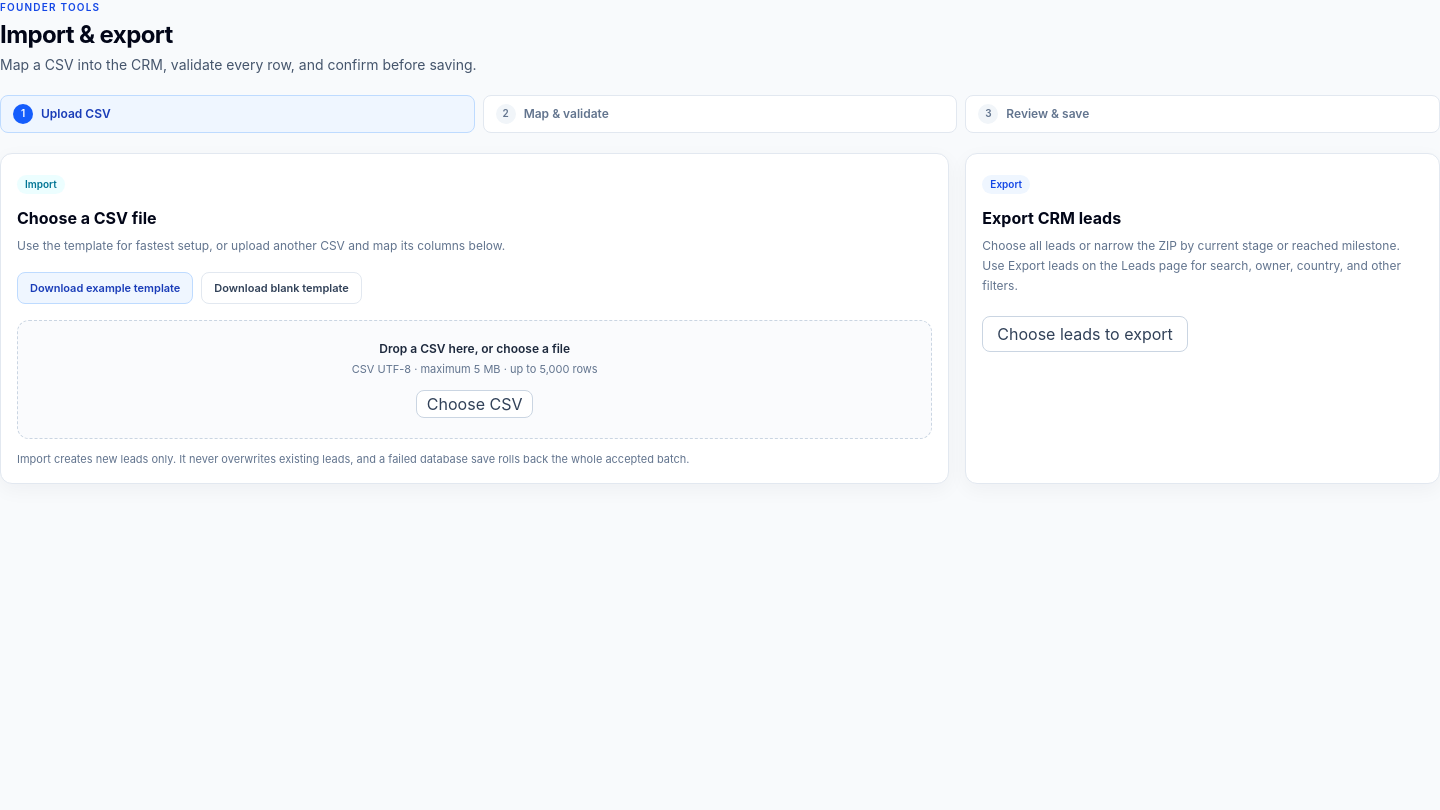
Bulk Import rich export › does not download when there are no leads
Click the button "Choose leads to export": (1085, 334) 982,316 -> 1188,352
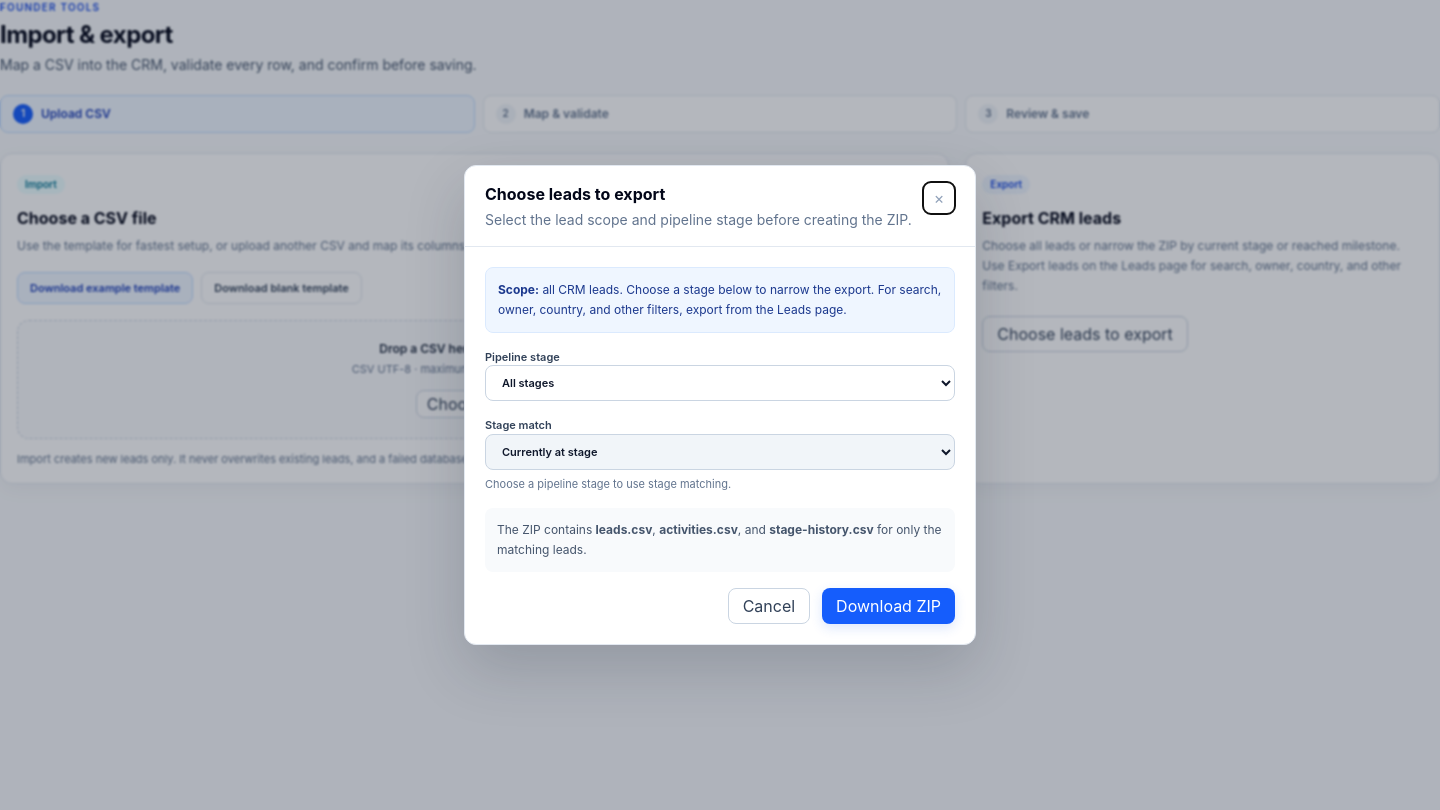
Click the button "Download ZIP": (889, 606) 822,588 -> 955,624
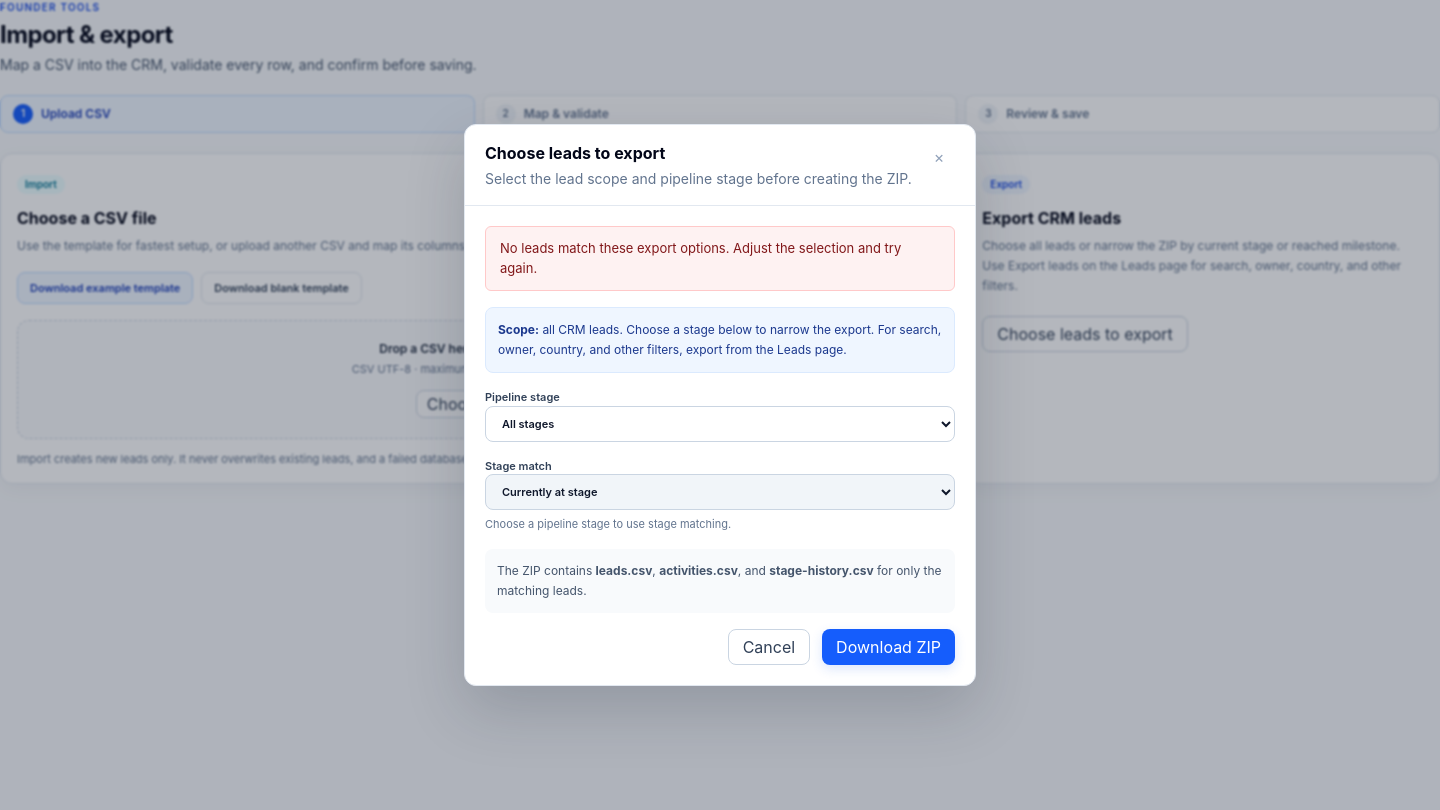
Result: the text "No leads match these export options" is shown at 500,240 -> 901,276
